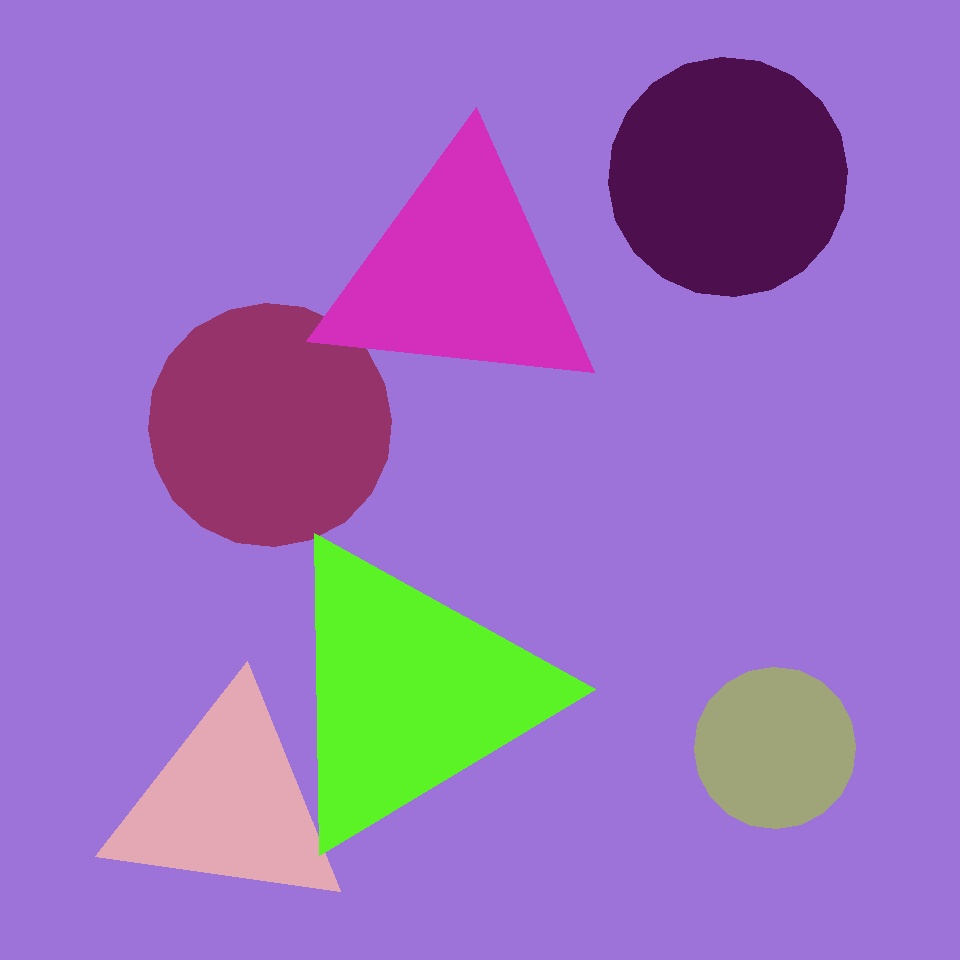circle: (270, 532, 550, 854), (315, 141, 603, 406), (106, 688, 350, 918)
square: (116, 579, 291, 754), (767, 260, 884, 377)
triangle: (164, 404, 431, 671), (148, 304, 392, 546), (608, 58, 848, 296), (694, 668, 856, 828)
